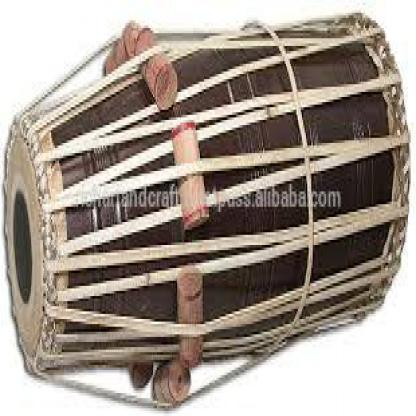Mridangam: (10, 13, 414, 363)
